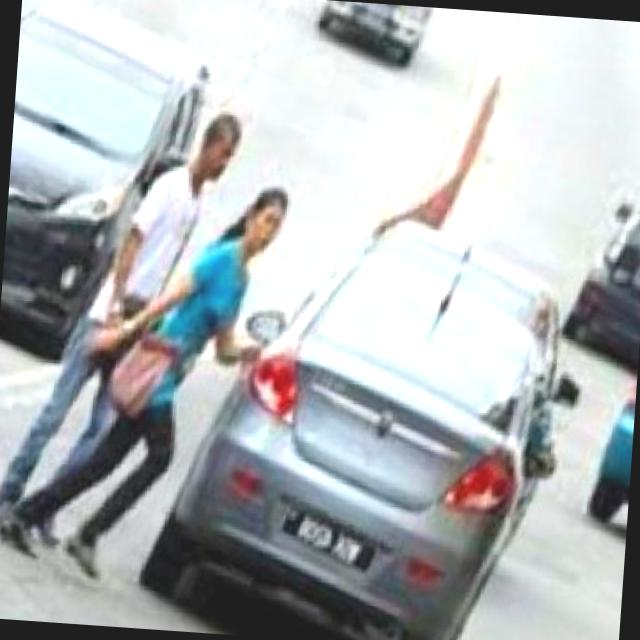Person: (0, 163, 315, 595), (0, 97, 256, 548)
